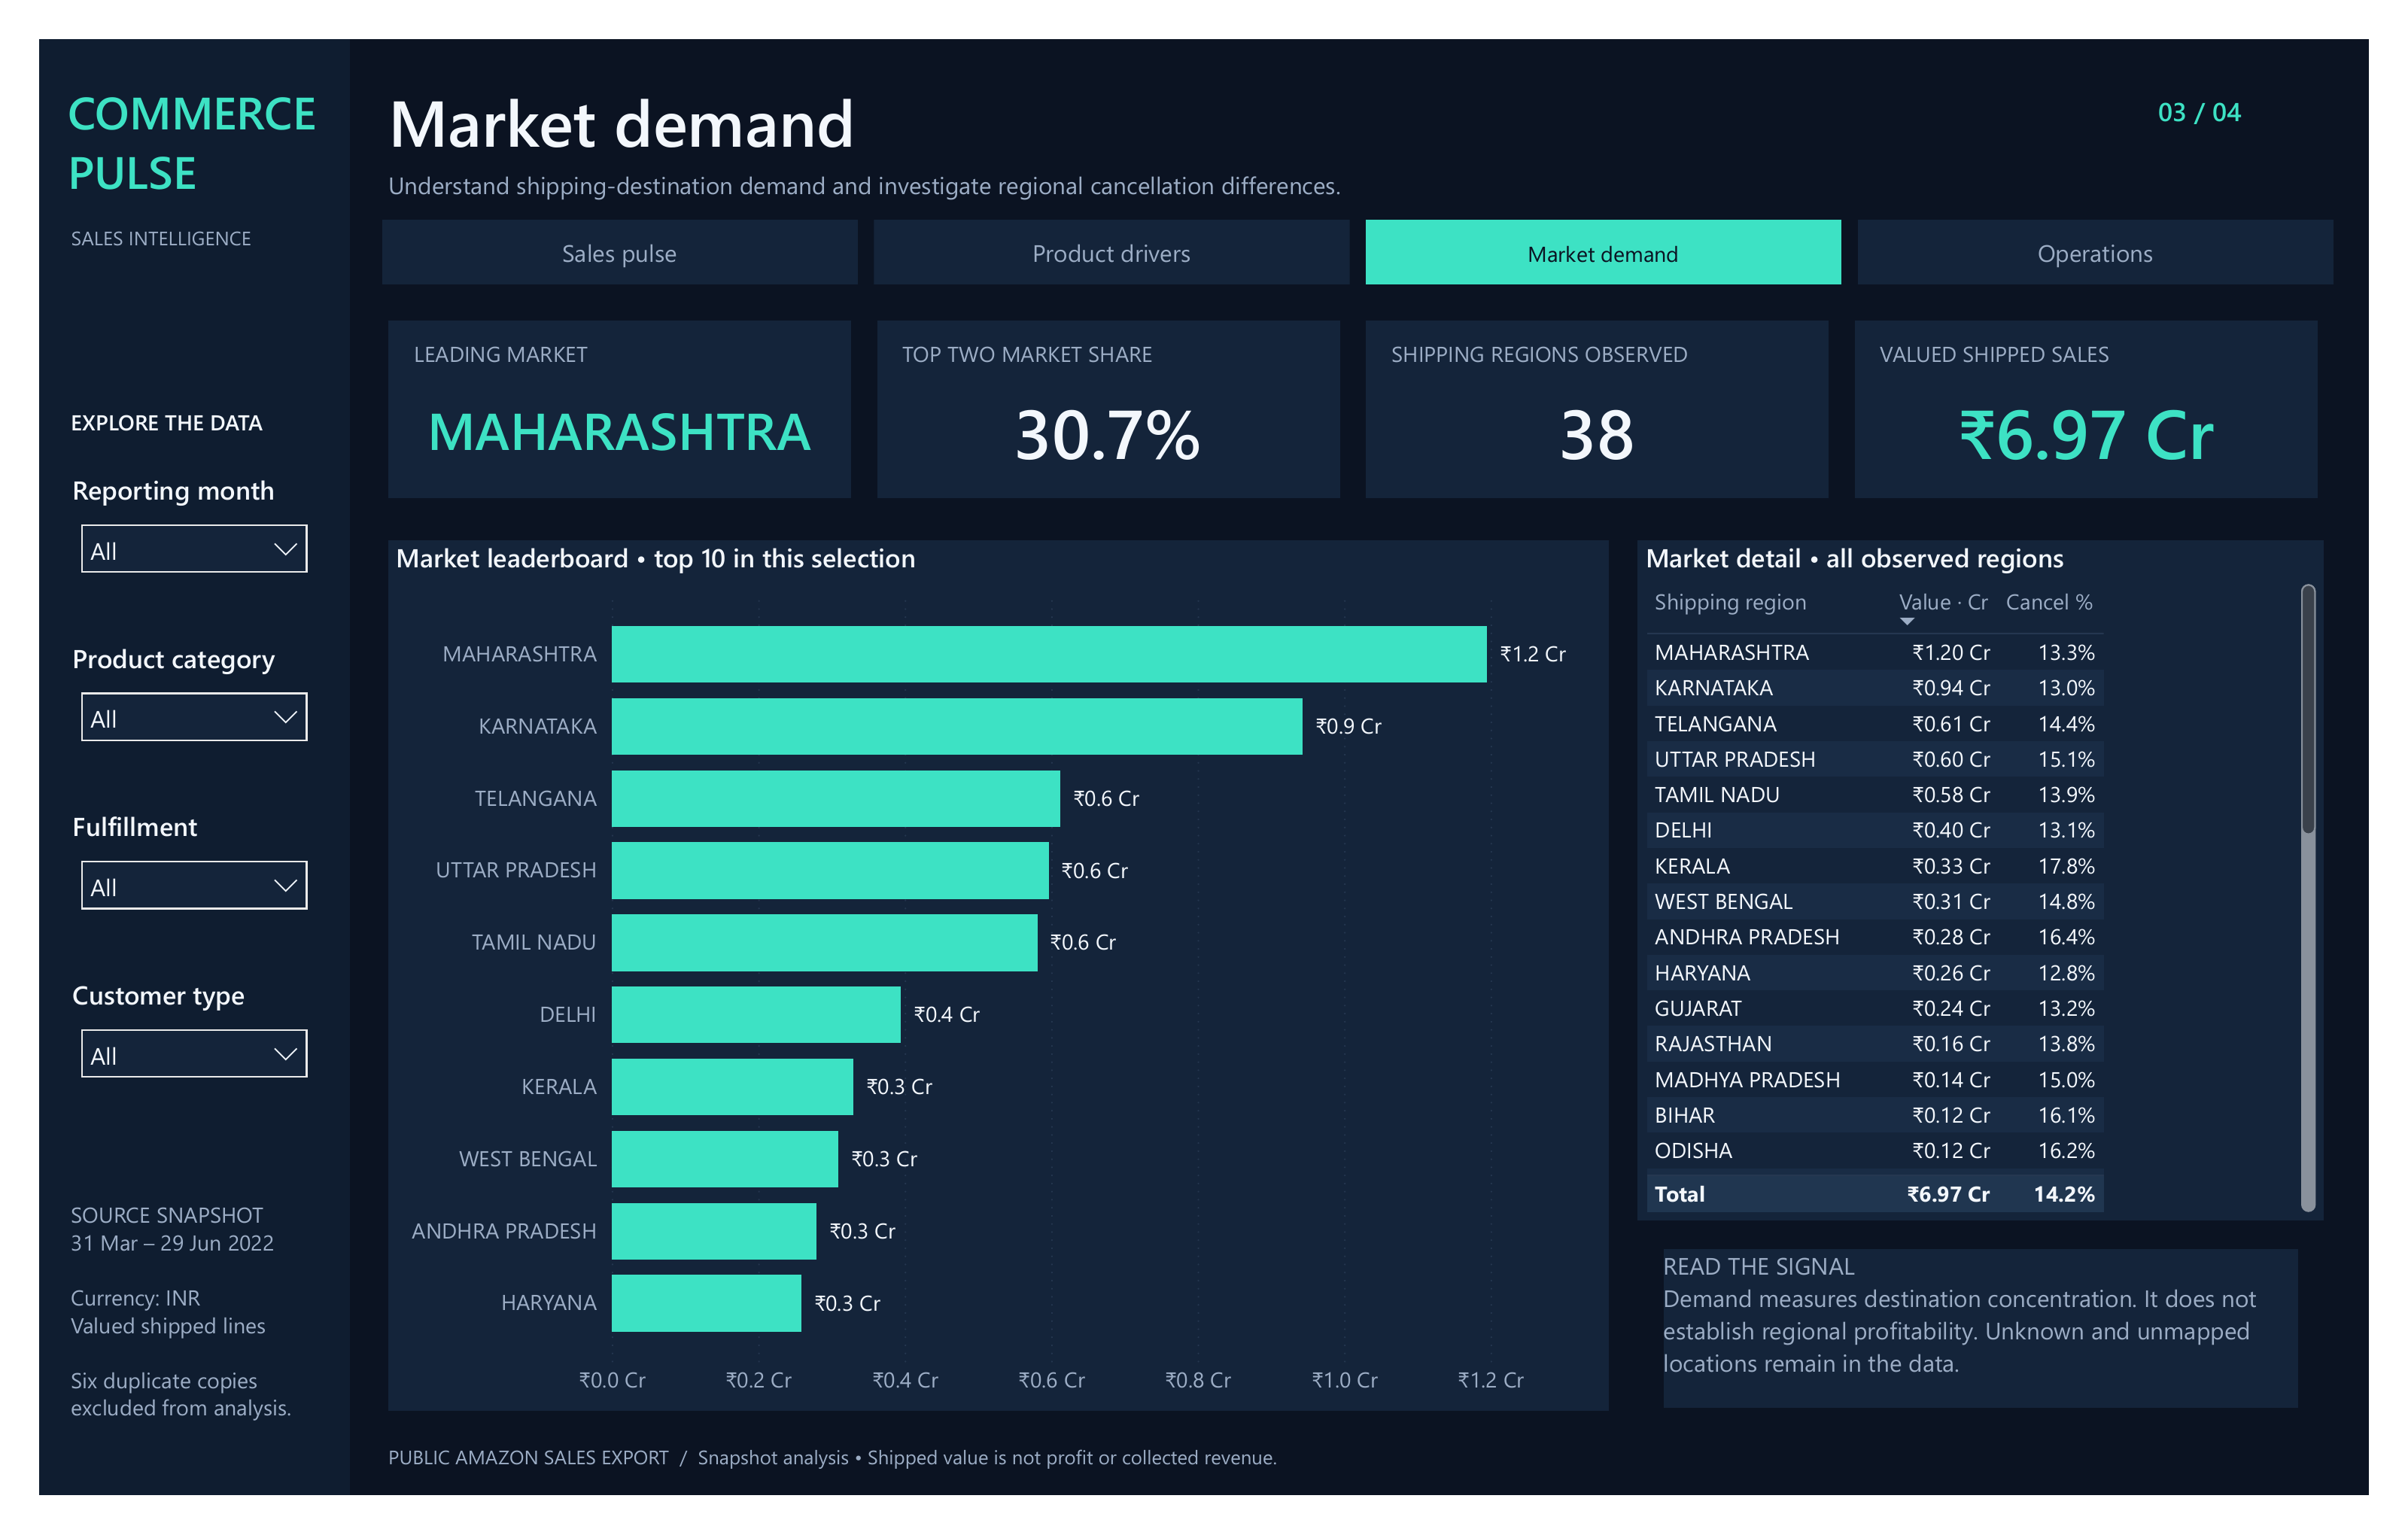

What the dashboard file says about the page in this screenshot:
{"tool":"powerbi","page":{"name":"Market demand","canvas":[1440,900],"ordinal":2},"visuals":[{"type":"textbox","box":[0,0,192,900],"z":0},{"type":"textbox","box":[216,174,286,110],"z":1},{"type":"textbox","box":[518,174,286,110],"z":1},{"type":"textbox","box":[820,174,286,110],"z":1},{"type":"textbox","box":[1122,174,286,110],"z":1},{"type":"pageNavigator","box":[212,112,1208,40],"z":10},{"type":"card","fields":{"Values":["Sales.Leading State"]},"box":[228,209,262,67],"z":10},{"type":"card","fields":{"Values":["Sales.Top Two Markets Share"]},"box":[530,209,262,67],"z":10},{"type":"card","fields":{"Values":["Sales.Active Regions"]},"box":[832,209,262,67],"z":10},{"type":"card","fields":{"Values":["Sales.Sales Value (crore)"]},"box":[1134,209,262,67],"z":10},{"type":"slicer","title":"Reporting month","fields":{"Values":["Date.month_label"]},"box":[16,268,160,88],"z":10},{"type":"clusteredBarChart","title":"Market leaderboard • top 10 in this selection","fields":{"Category":["Geography.ship_state"],"Y":["Sales.Top 10 Market Value (crore)"]},"box":[216,310,754,538],"z":10},{"type":"tableEx","title":"Market detail • all observed regions","fields":{"Values":["Geography.ship_state","Sales.Sales Value (crore)","Sales.Cancelled Line Rate"]},"box":[988,310,424,420],"z":10},{"type":"slicer","title":"Product category","fields":{"Values":["Product.category"]},"box":[16,372,160,88],"z":10},{"type":"slicer","title":"Fulfillment","fields":{"Values":["Sales.fulfillment"]},"box":[16,476,160,88],"z":10},{"type":"slicer","title":"Customer type","fields":{"Values":["Sales.Customer Segment"]},"box":[16,580,160,88],"z":10},{"type":"textbox","box":[216,24,760,54],"z":20},{"type":"textbox","box":[18,26,158,86],"z":20},{"type":"textbox","box":[1310,34,104,34],"z":20},{"type":"textbox","box":[216,80,960,26],"z":20},{"type":"textbox","box":[20,114,152,28],"z":20},{"type":"textbox","box":[232,186,254,23],"z":20},{"type":"textbox","box":[534,186,254,23],"z":20},{"type":"textbox","box":[836,186,254,23],"z":20},{"type":"textbox","box":[1138,186,254,23],"z":20},{"type":"textbox","box":[20,228,152,28],"z":20},{"type":"textbox","box":[20,718,152,150],"z":20},{"type":"textbox","box":[1004,748,392,98],"z":20},{"type":"textbox","box":[216,867,1198,26],"z":20}]}

Visuals, with their boxes in screenshot pixels (x1, y1, x2, y2), scaled from the page's 1440x900 canvas onto the 2408x1535 screenshot:
textbox: 0,0,321,1534
textbox: 361,296,840,485
textbox: 866,296,1345,485
textbox: 1371,296,1850,485
textbox: 1876,296,2355,485
pageNavigator: 354,191,2375,260
card - Sales.Leading State: 382,357,819,471
card - Sales.Top Two Markets Share: 886,357,1324,471
card - Sales.Active Regions: 1391,357,1829,471
card - Sales.Sales Value (crore): 1896,357,2334,471
"Reporting month" slicer: 27,457,294,607
"Market leaderboard • top 10 in this selection" clusteredBarChart: 361,529,1622,1446
"Market detail • all observed regions" tableEx: 1652,529,2361,1245
"Product category" slicer: 27,634,294,785
"Fulfillment" slicer: 27,812,294,962
"Customer type" slicer: 27,989,294,1139
textbox: 361,41,1632,133
textbox: 30,44,294,191
textbox: 2191,58,2364,116
textbox: 361,136,1966,181
textbox: 33,194,287,242
textbox: 388,318,813,357
textbox: 893,318,1318,357
textbox: 1398,318,1823,357
textbox: 1903,318,2327,357
textbox: 33,389,287,436
textbox: 33,1224,287,1480
textbox: 1679,1275,2334,1443
textbox: 361,1479,2364,1523
